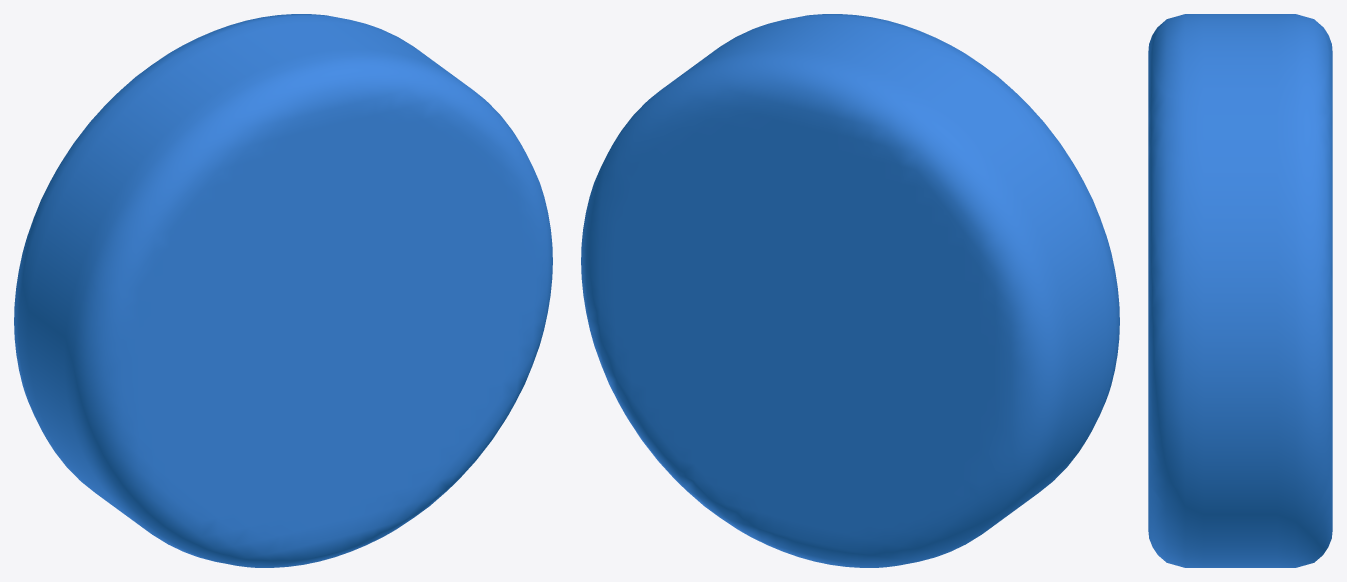
File: 089_right_stereo_camera_lens.glb
The picture shows the model from 3 angles, left to right: view 1: azimuth 30°, elevation 25°; view 2: azimuth 150°, elevation 25°; view 3: azimuth 270°, elevation 25°; orthographic projection.
Parts seen in each view (by area): view 1: 089 | Right Stereo Camera Lens; view 2: 089 | Right Stereo Camera Lens; view 3: 089 | Right Stereo Camera Lens.
Boxes of the visible parts, x1,y1,x2,y2 form: 089 | Right Stereo Camera Lens: (14,14,552,567); 089 | Right Stereo Camera Lens: (581,14,1119,567); 089 | Right Stereo Camera Lens: (1148,14,1332,567).
Bounding box in the file's own units: 0.00361 × 0.00361 × 0.0012.
